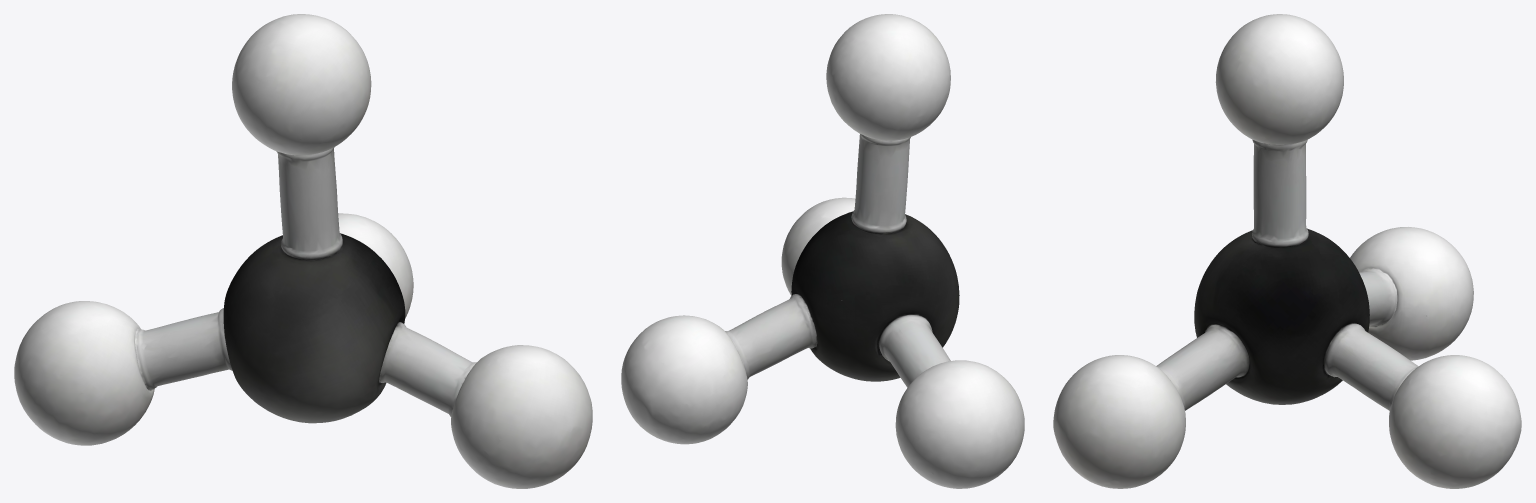
The model's file is methane-molecule.glb.
3 views of the same model, side by side, from view 1: azimuth 30°, elevation 25°; view 2: azimuth 150°, elevation 25°; view 3: azimuth 270°, elevation 25° (orthographic). The views are drawn at different scales.
Visible parts, largest first — view 1: methane-molecule; view 2: methane-molecule; view 3: methane-molecule.
Boxes of the visible parts, <box> form: methane-molecule: <box>14,14,592,488</box>; methane-molecule: <box>621,14,1024,488</box>; methane-molecule: <box>1053,14,1521,488</box>.
Bounding box in the file's own units: 0.1118 × 0.1137 × 0.12.
1 material, 1 textured.
